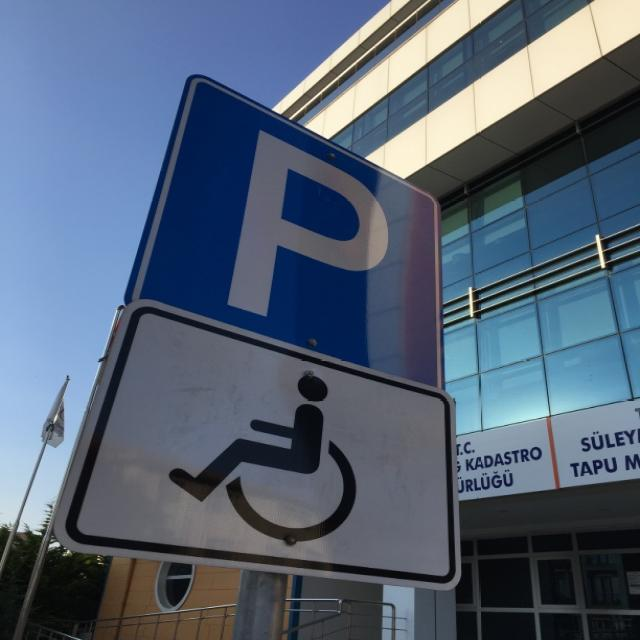park: (119, 70, 448, 318)
